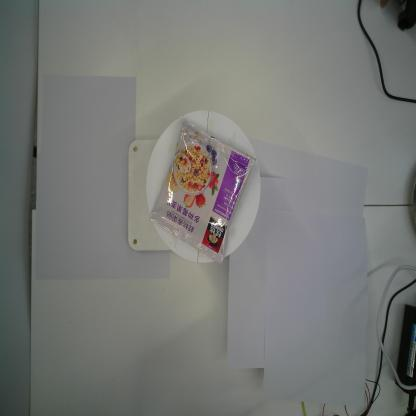Instant Drink: (149, 119, 256, 265)
